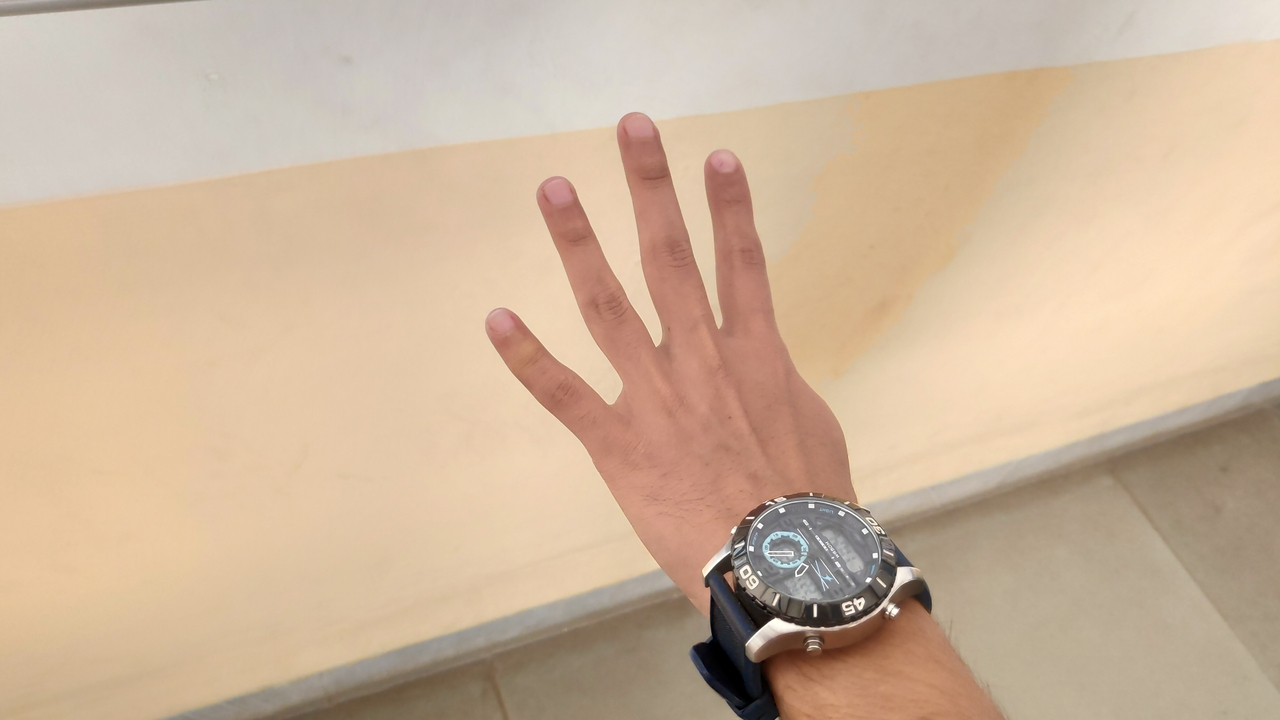fingertip: (526, 168, 590, 222), (476, 298, 534, 350), (700, 140, 754, 190), (610, 108, 668, 148)
